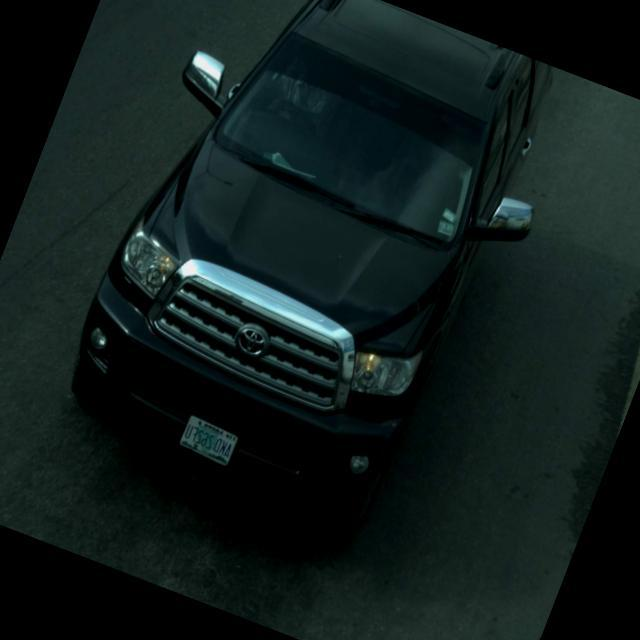windshield: (216, 25, 502, 247)
